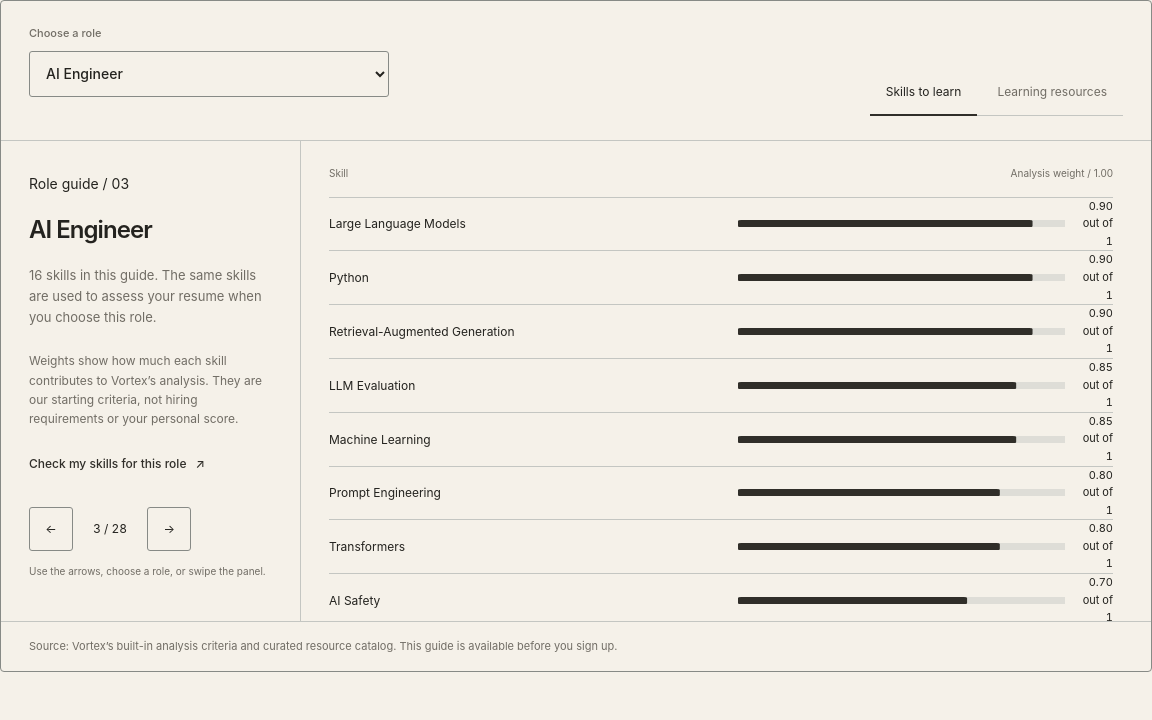
Test: Public role guide › shows the real AI Engineer criteria and passes the selected role to analysis
Select "Software Development Engineer" in the dropdown labelled "Choose a role" at x=209, y=74, box x1=29 y1=51 x2=389 y2=97
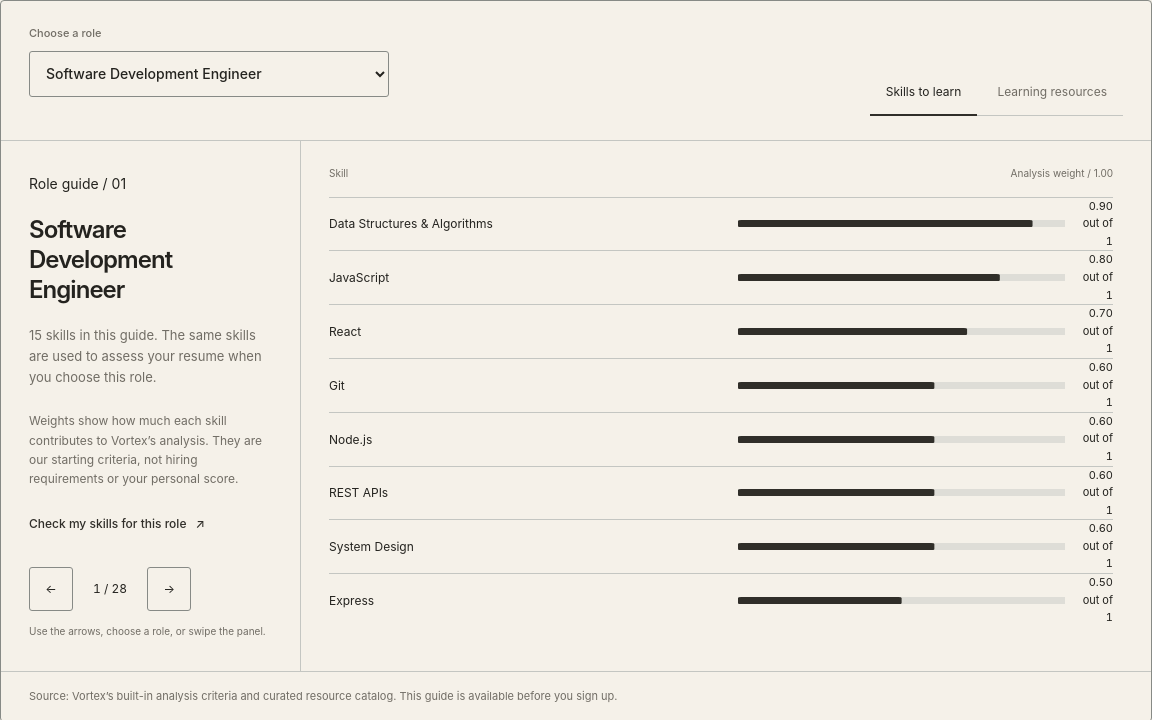
expect the heading "Software Development Engineer" is shown: met, box x1=29 y1=215 x2=172 y2=304
